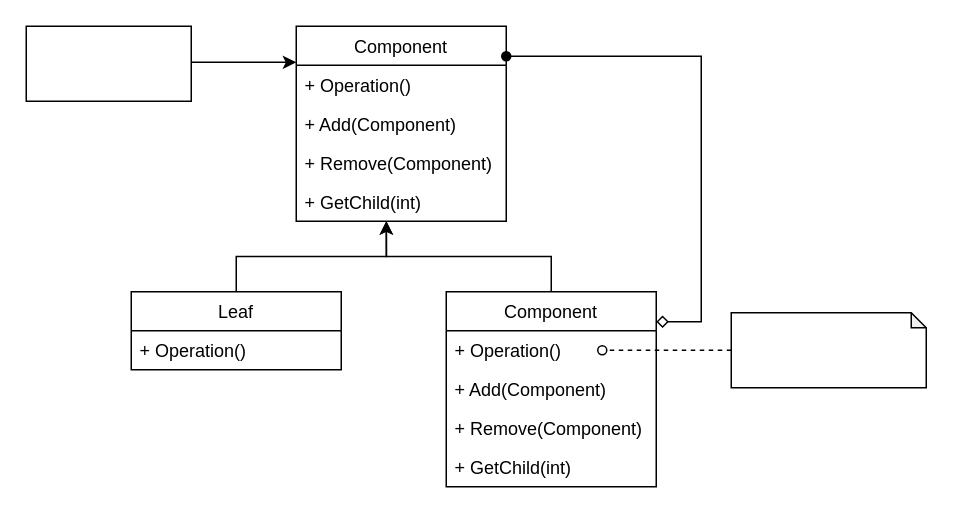
This 953x518 diagram has some shape labels left out. Here are the shapes that lost their labels. From the top down, the centre of each, then its label:
At [108,63]: "Client".
At [828,349]: "for all g in children g.Operation();".
